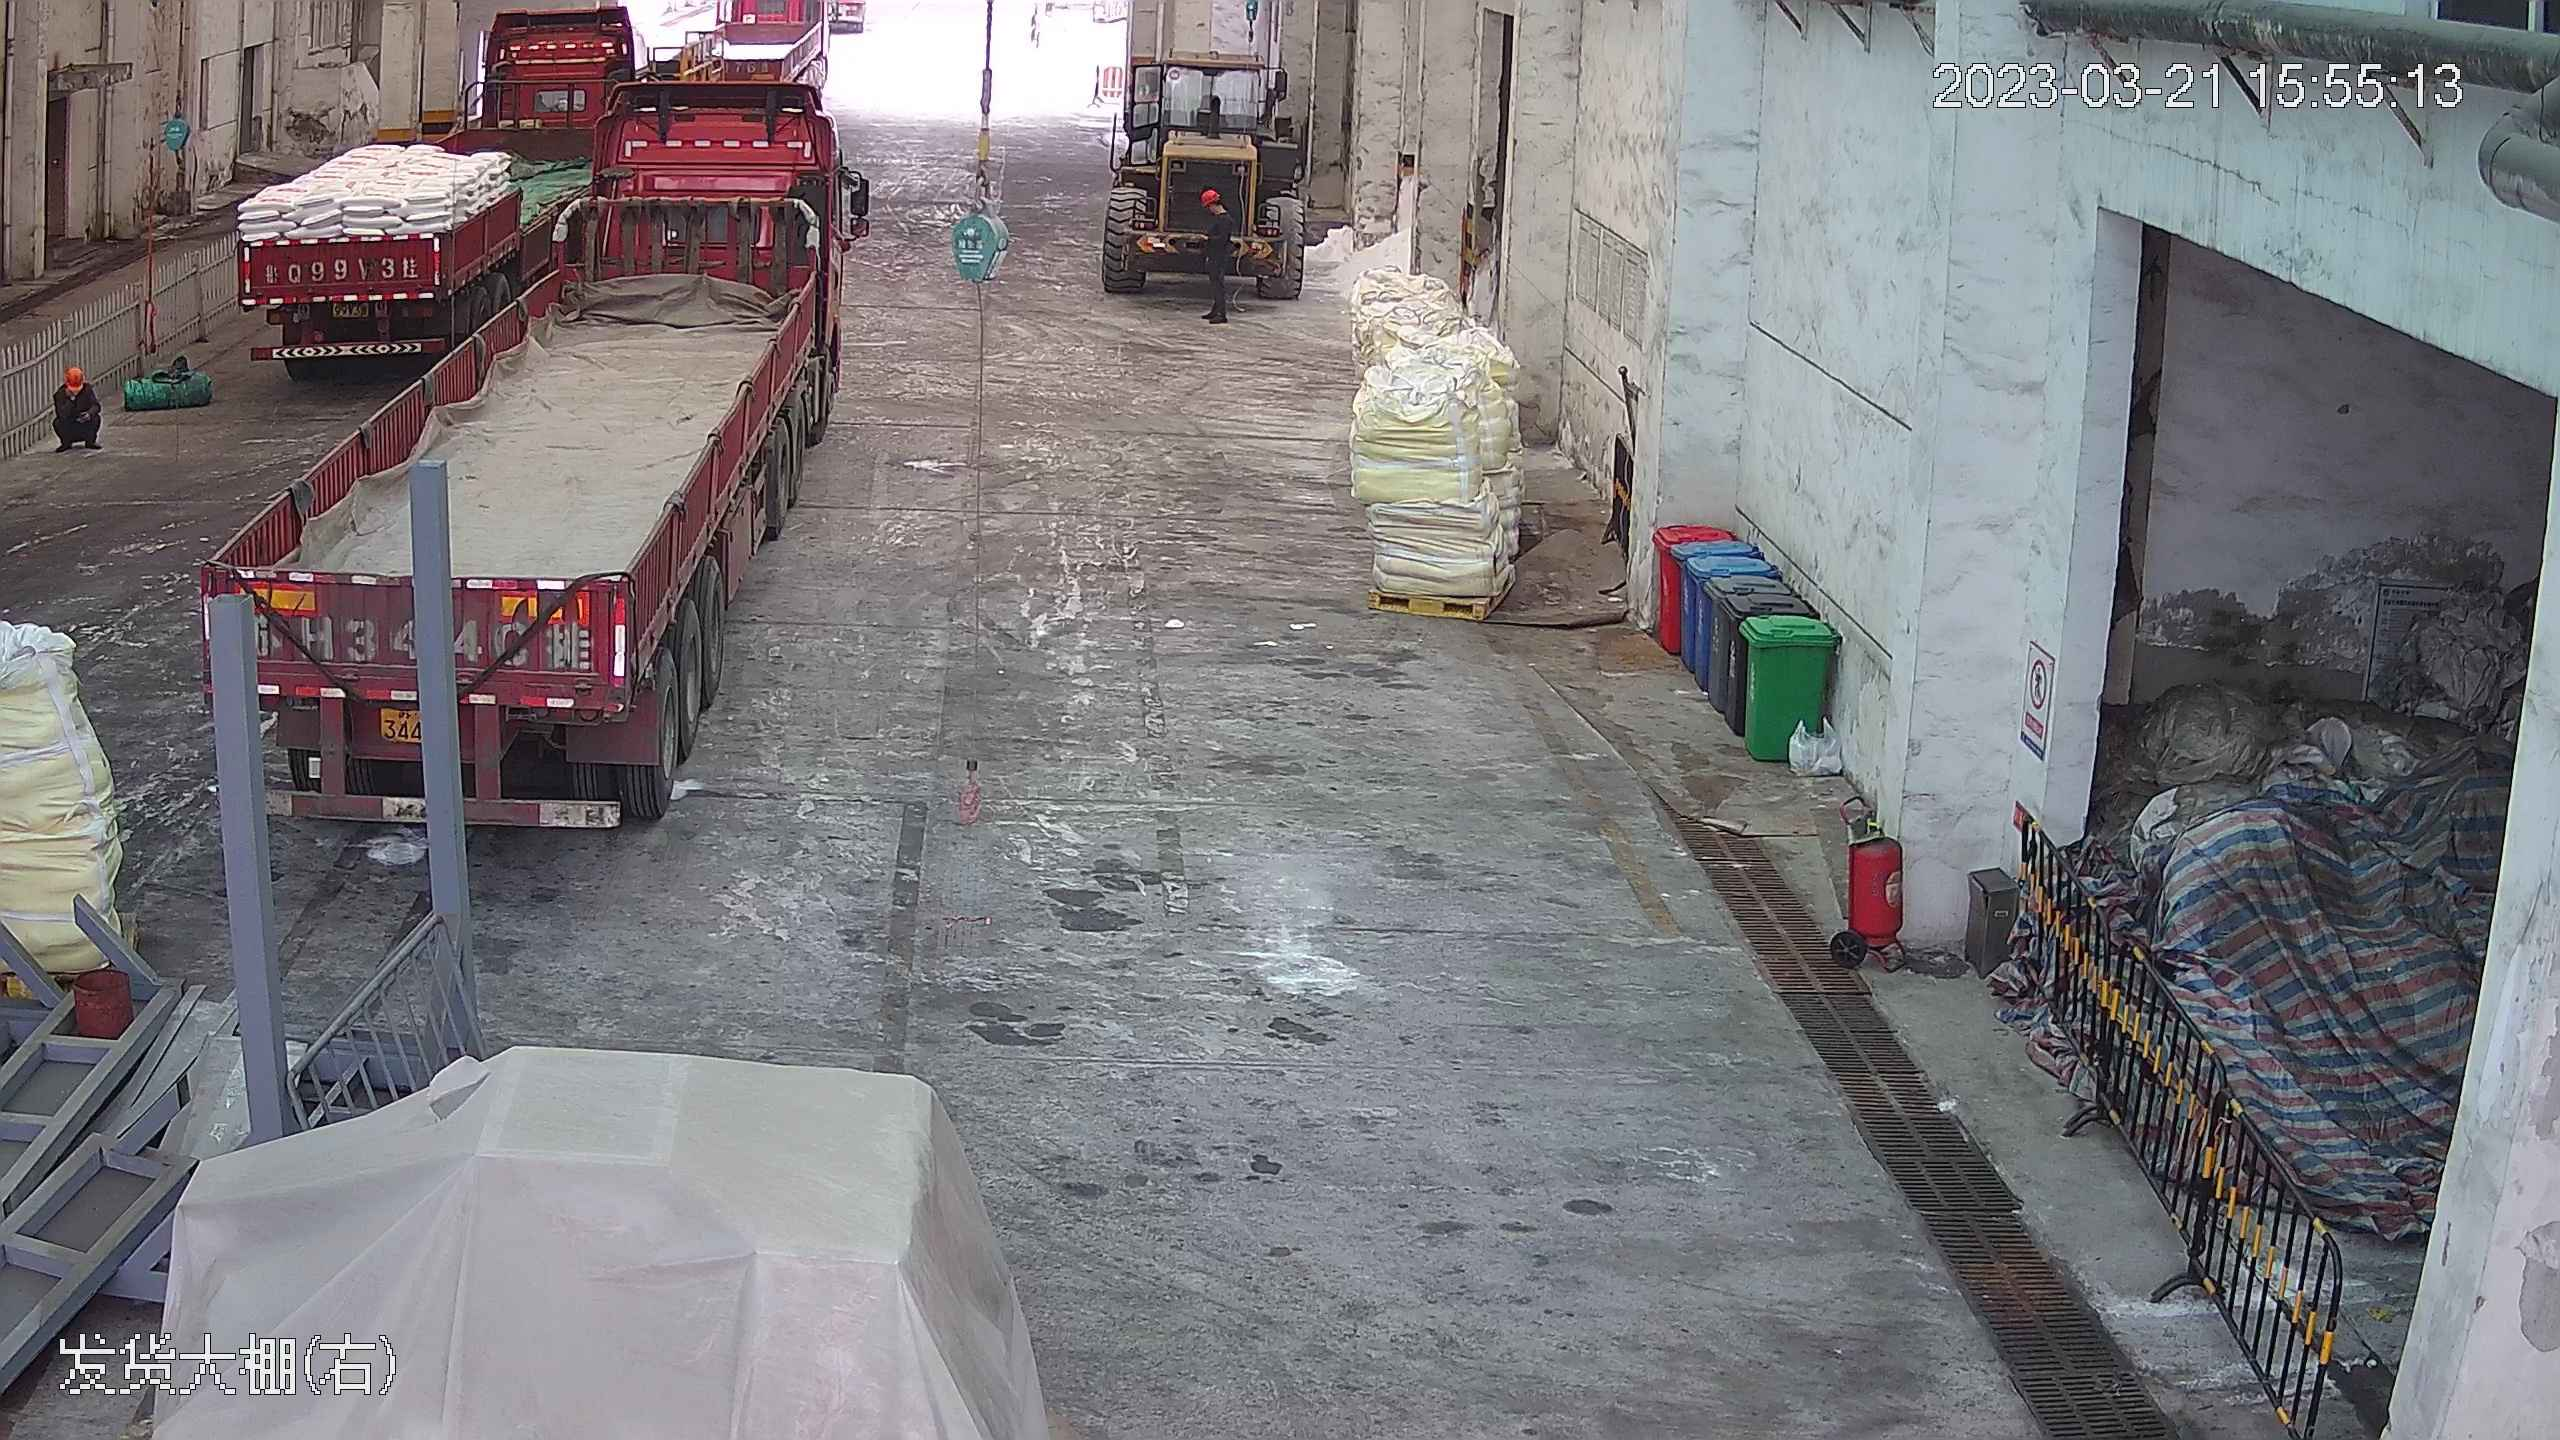head: (54, 364, 94, 415), (1195, 183, 1229, 220)
helmet: (59, 364, 83, 385), (1197, 179, 1221, 198)
people: (1193, 186, 1240, 314), (45, 363, 99, 454)
truck: (212, 20, 859, 845), (215, 8, 616, 375)
